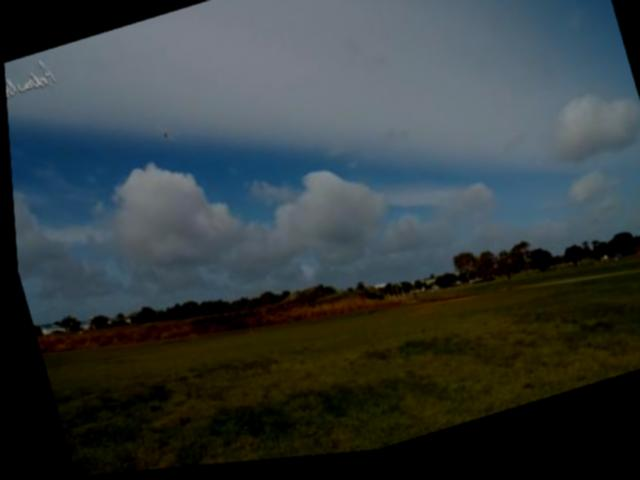uav: (145, 118, 179, 154)
